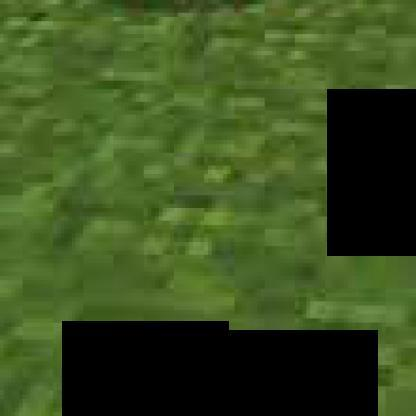minecraft-pigs: (53, 0, 364, 9), (404, 0, 412, 314)
